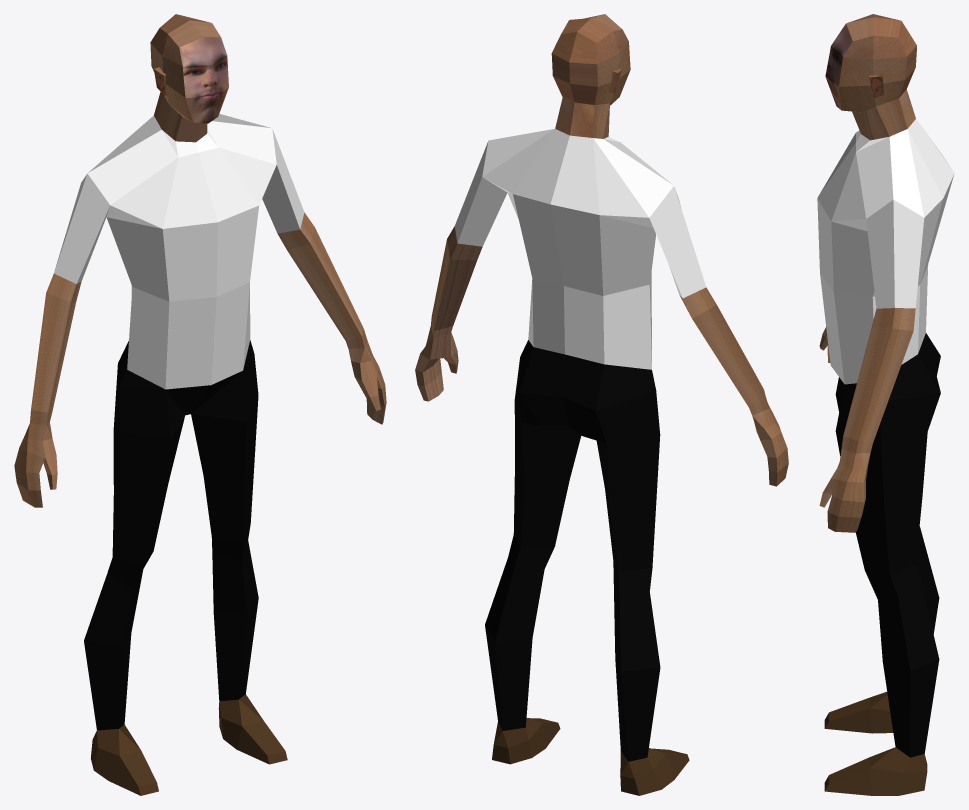
The model's file is zoltan.glb.
3 views of the same model, side by side, from view 1: azimuth 30°, elevation 25°; view 2: azimuth 150°, elevation 25°; view 3: azimuth 270°, elevation 25° (orthographic).
Visible parts, largest first — view 1: Cylinder; view 2: Cylinder; view 3: Cylinder.
Part boxes in pixels (<box>): Cylinder: <box>14,14,386,795</box>; Cylinder: <box>415,14,788,795</box>; Cylinder: <box>817,14,954,795</box>.
Size of the model in its own units: 0.8526 by 1.67 by 0.2819.
1 material, 1 textured.
